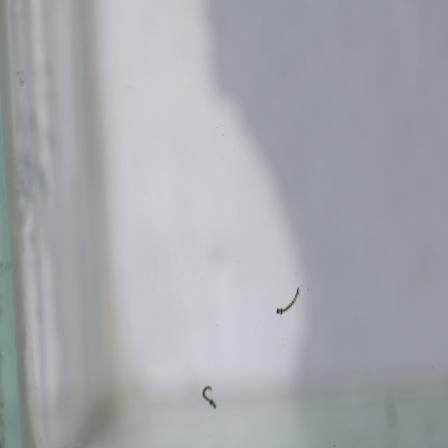Jentik-Nyamuk: (273, 284, 305, 318), (198, 379, 221, 412)
